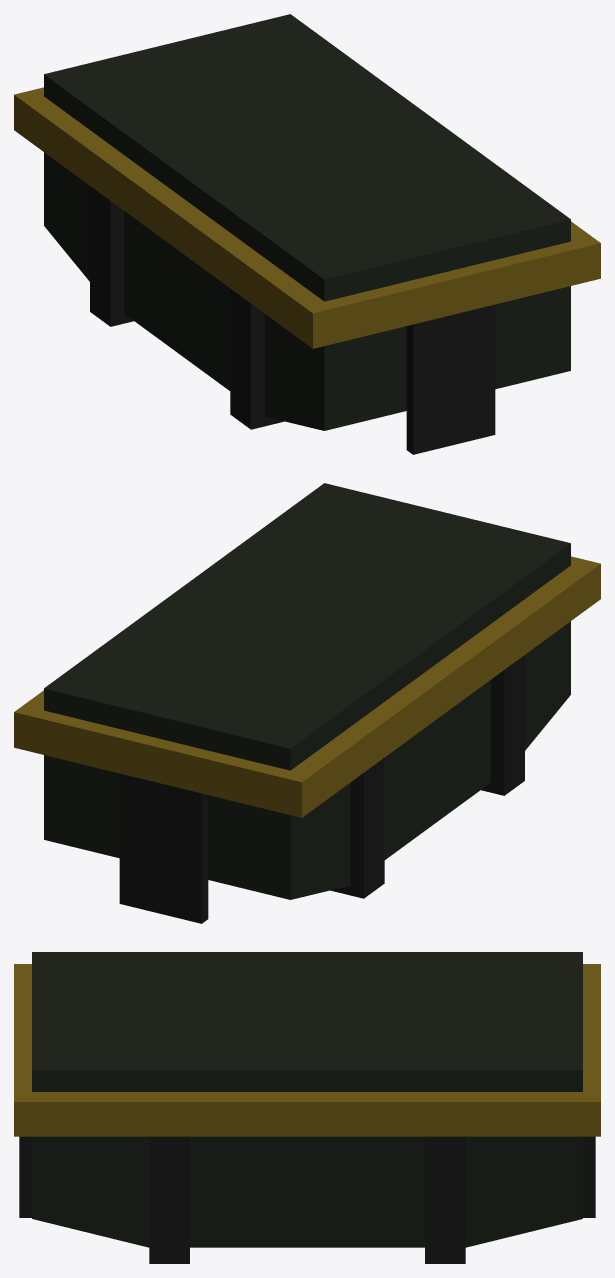
File: Crate_2.obj
3 renders of one model, top to bottom at view 1: azimuth 30°, elevation 25°; view 2: azimuth 150°, elevation 25°; view 3: azimuth 270°, elevation 25°, orthographic.
Parts seen in each view (by area): view 1: Cube.001_Cube.006; view 2: Cube.001_Cube.006; view 3: Cube.001_Cube.006.
Boxes of the visible parts, x1,y1,x2,y2 form: Cube.001_Cube.006: [14, 14, 600, 454]; Cube.001_Cube.006: [14, 483, 600, 923]; Cube.001_Cube.006: [14, 952, 600, 1263].
Size of the model in its own units: 0.3701 by 0.234 by 0.6652.
